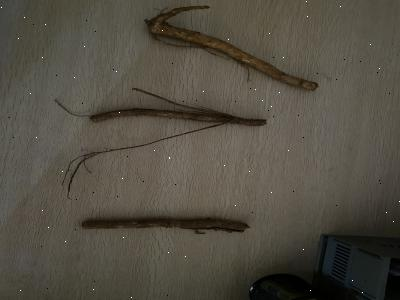Root: (68, 88, 266, 196), (144, 6, 318, 91), (83, 218, 249, 234)
